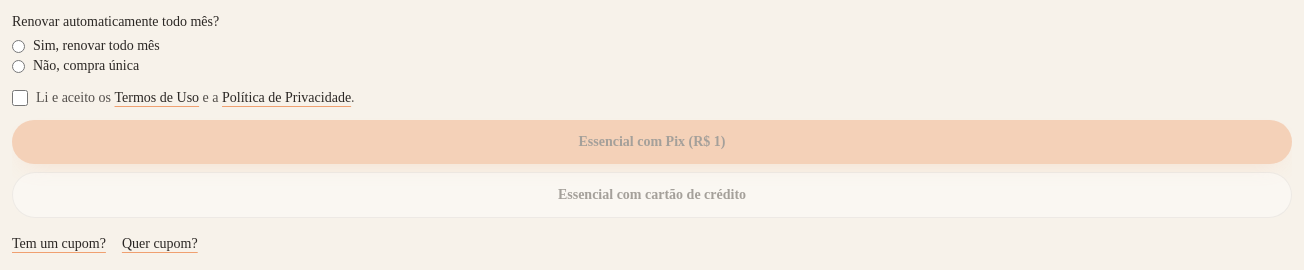
Test: checkbox de aceite no checkout › Pix e cartão ficam desabilitados até aceitar
expect the button "Essencial com Pix (R$ 1)" is disabled: met, box [12,120,1292,164]
expect the button "Essencial com cartão de crédito" is disabled: met, box [12,172,1292,218]
Click the checkbox labelled "Li e aceito os Termos de Uso e a Política de Privacidade ." at (20, 98), box [12,90,28,106]
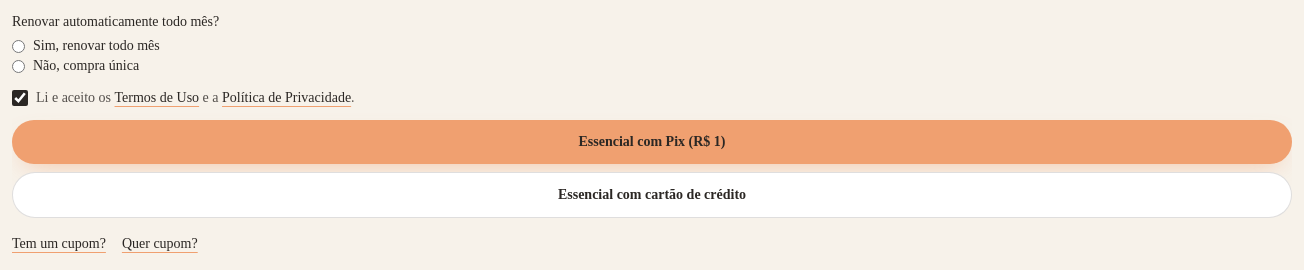
expect the button "Essencial com Pix (R$ 1)" is enabled: met, box [12,120,1292,164]
expect the button "Essencial com cartão de crédito" is enabled: met, box [12,172,1292,218]
